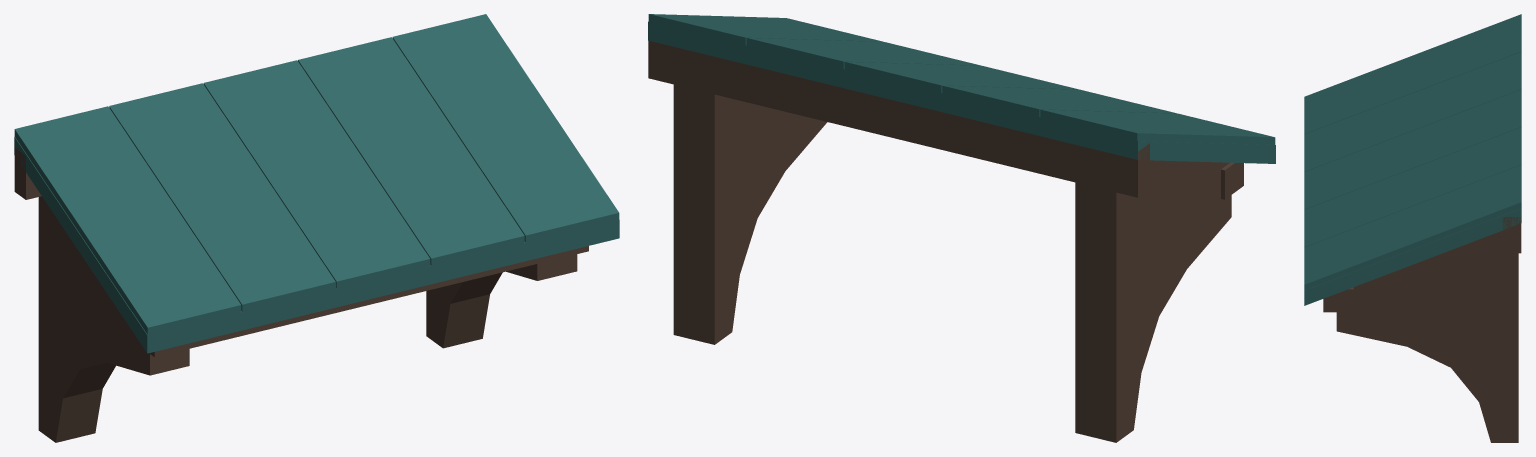
The model's file is bracketed_canopy.glb.
The picture shows the model from 3 angles, left to right: view 1: azimuth 30°, elevation 25°; view 2: azimuth 150°, elevation 25°; view 3: azimuth 270°, elevation 25°; orthographic projection. The views are drawn at different scales.
Visible parts, largest first — view 1: Bracketed canopy; view 2: Bracketed canopy; view 3: Bracketed canopy.
Boxes of the visible parts, x1,y1,x2,y2 form: Bracketed canopy: (14,14,619,442); Bracketed canopy: (648,14,1275,442); Bracketed canopy: (1304,14,1521,442).
Size of the model in its own units: 1 by 0.6182 by 0.488.
